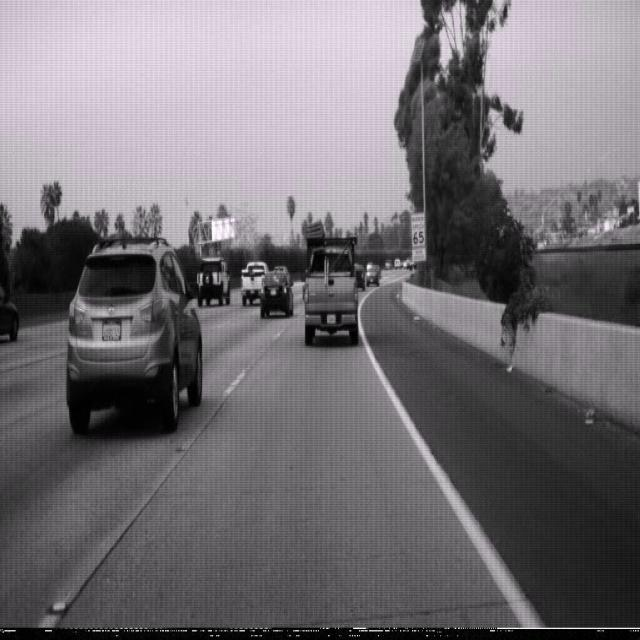speedLimit65: (410, 211, 426, 248)
